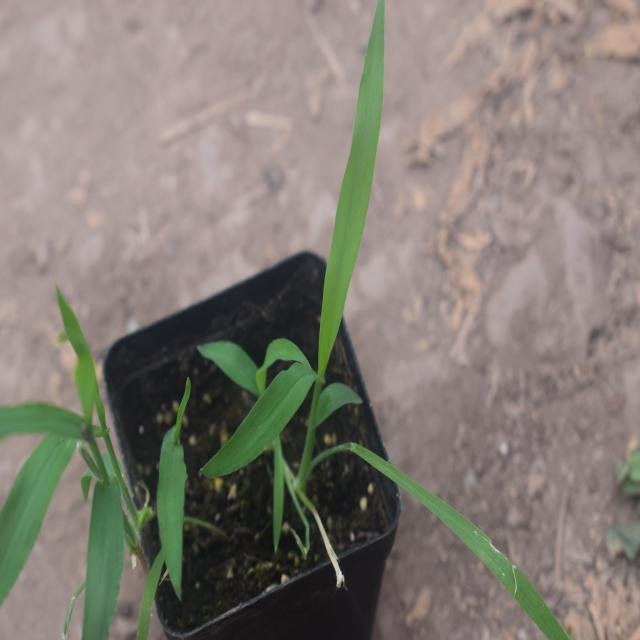crabgrass: (202, 32, 432, 532), (2, 303, 211, 618)
